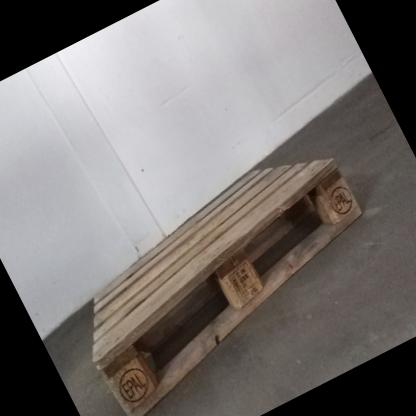BoxFace: (86, 156, 368, 416)
